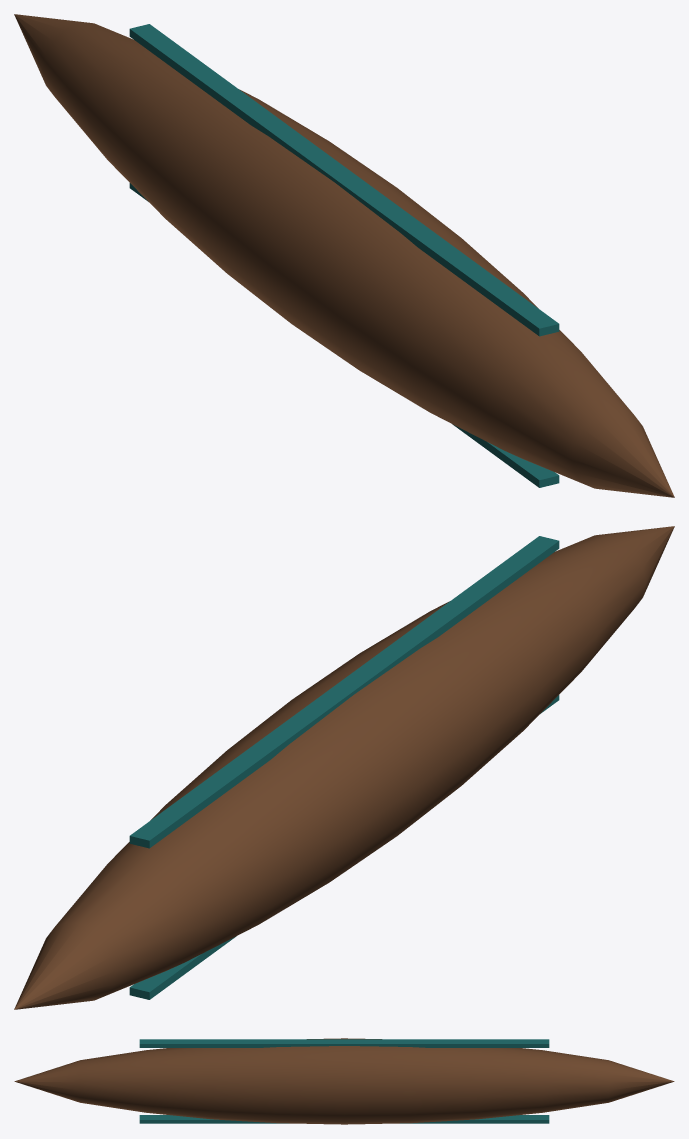
File: kpfe_emitter.obj
3 views of the same model, one above another, from view 1: azimuth 30°, elevation 25°; view 2: azimuth 150°, elevation 25°; view 3: azimuth 270°, elevation 25° (orthographic). The views are drawn at different scales.
Visible parts, largest first — view 1: kpfe_emitter; view 2: kpfe_emitter; view 3: kpfe_emitter.
Boxes of the visible parts, x1=… form: kpfe_emitter: x1=14, y1=14, x2=674, y2=497; kpfe_emitter: x1=14, y1=526, x2=674, y2=1009; kpfe_emitter: x1=14, y1=1038, x2=674, y2=1124.
Size of the model in its own units: 0.6 by 0.612 by 4.6.
